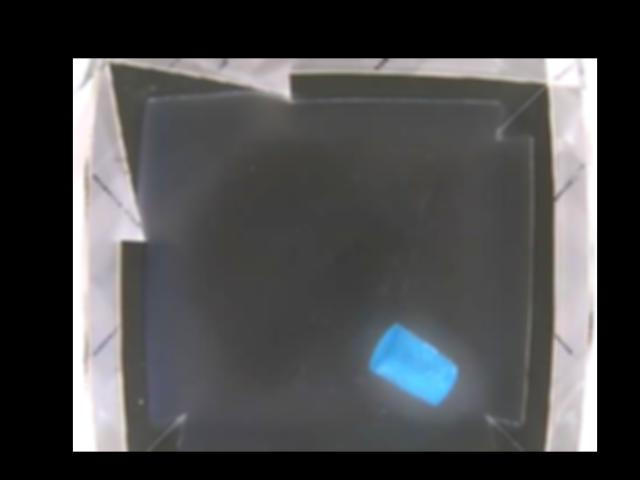Carrot: (368, 323, 460, 405)
